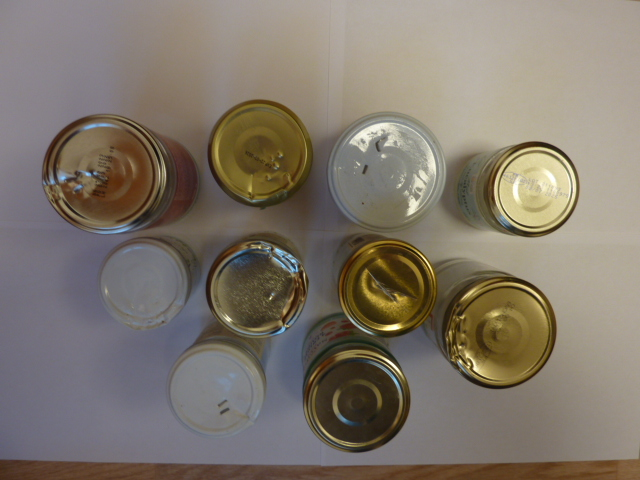damaged: (38, 112, 169, 236), (446, 276, 558, 390), (207, 98, 313, 207), (206, 238, 308, 340), (339, 239, 437, 338), (166, 344, 268, 438), (99, 238, 191, 331)
intact: (303, 350, 410, 453)
